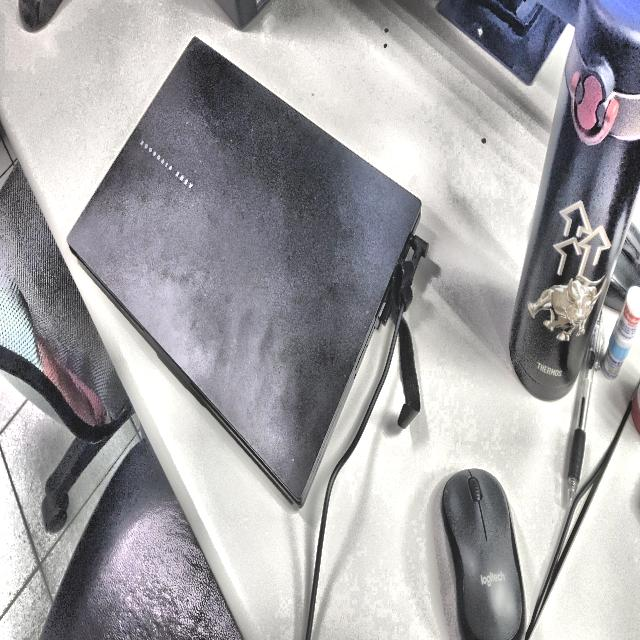Laptop: (67, 37, 421, 504)
MOUSE: (442, 469, 525, 640)
